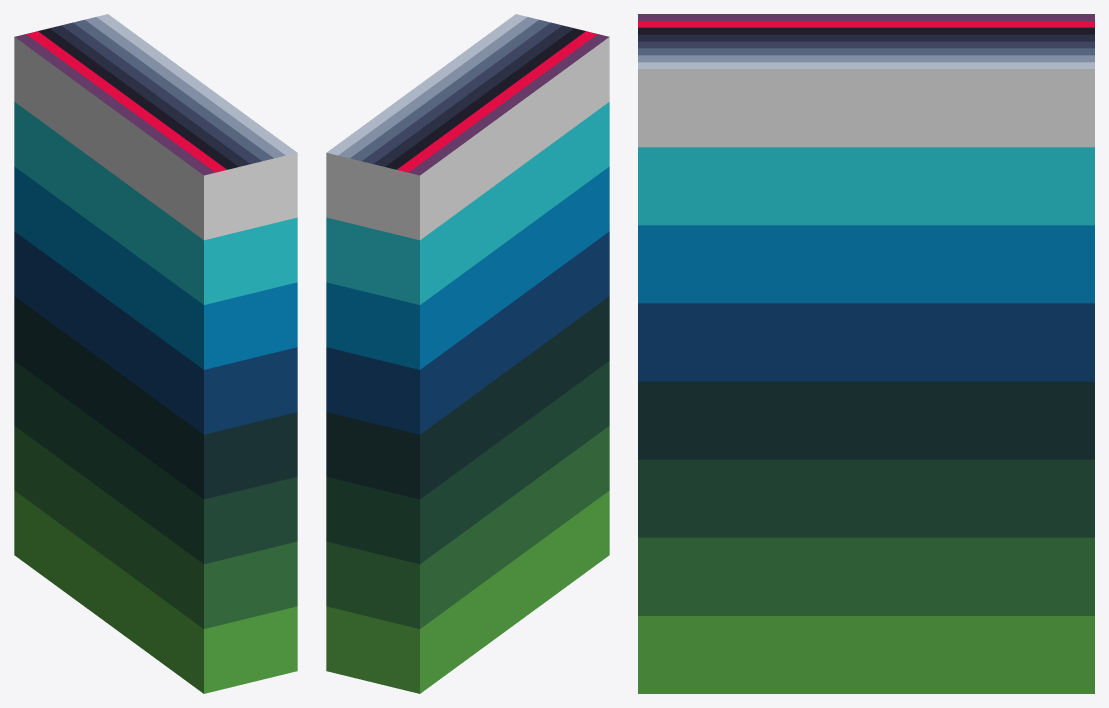
The model's file is GradedCard1.glb.
The picture shows the model from 3 angles, left to right: view 1: azimuth 30°, elevation 25°; view 2: azimuth 150°, elevation 25°; view 3: azimuth 270°, elevation 25°; orthographic projection. The views are drawn at different scales.
Parts seen in each view (by area): view 1: Cube.001; view 2: Cube.001; view 3: Cube.001.
Boxes of the visible parts, left/top/right/bottom form: Cube.001: left=14, top=14, right=297, bottom=693; Cube.001: left=326, top=14, right=609, bottom=693; Cube.001: left=638, top=14, right=1094, bottom=693.
Size of the model in its own units: 0.3779 by 2 by 1.33.
2 materials, 2 textured.
